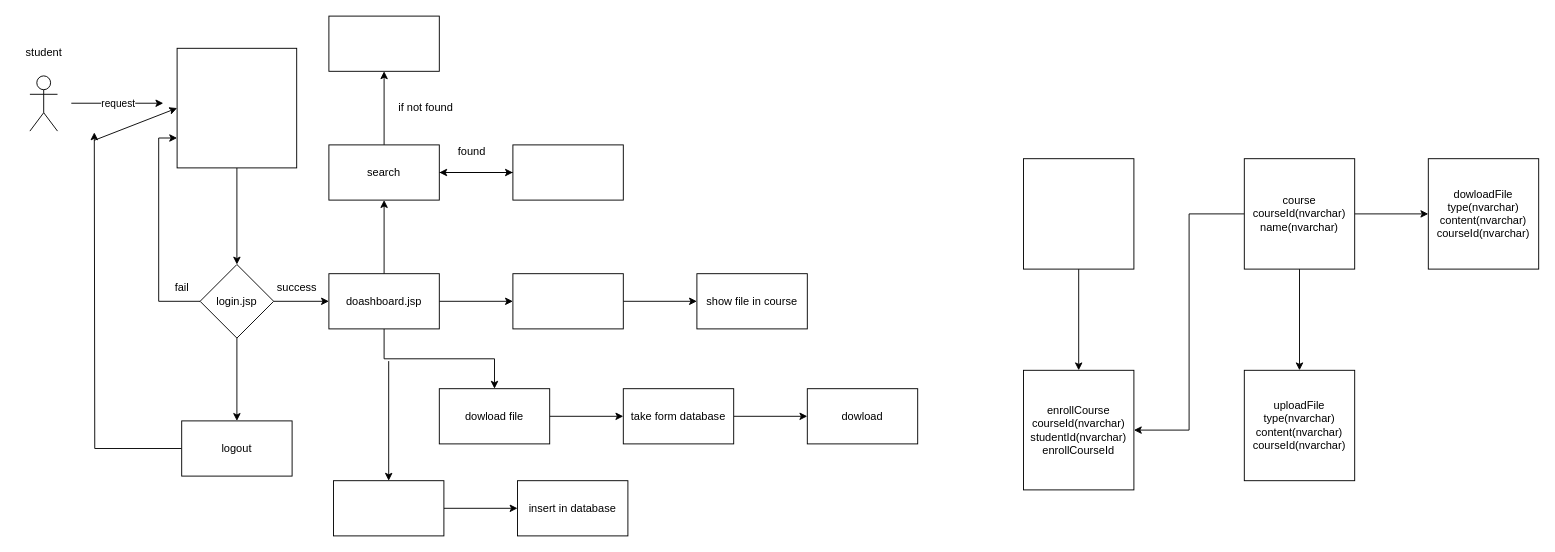
Image size: 1555x552. Some labels were removed from this diagram. The shapes that lost their labels are listed below. From the top down, each one's centre as x and y in pixels, then its label:
At pixel 383 43: "show almost corecr".
At pixel 43 103: "Actor".
At pixel 236 107: "client(index.html)".
At pixel 567 172: "show only 1".
At pixel 1078 213: "Account gmail(nvarchar) name(nvarchar) studentId(nvarchar) enrollCourseId".
At pixel 567 301: "enroll course".
At pixel 388 508: "upload file".
